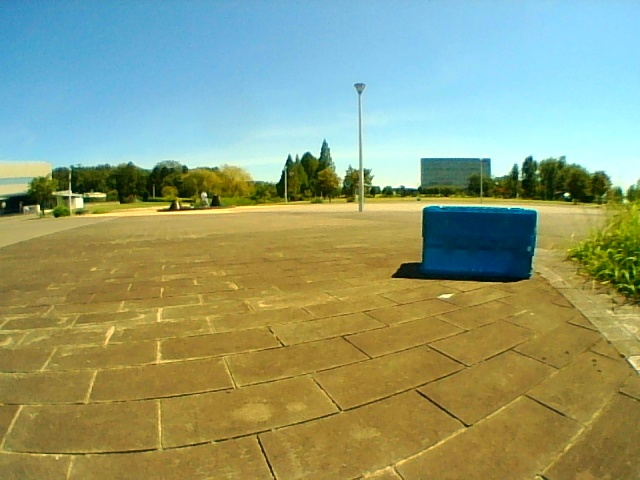blue_box: (424, 207, 531, 273)
